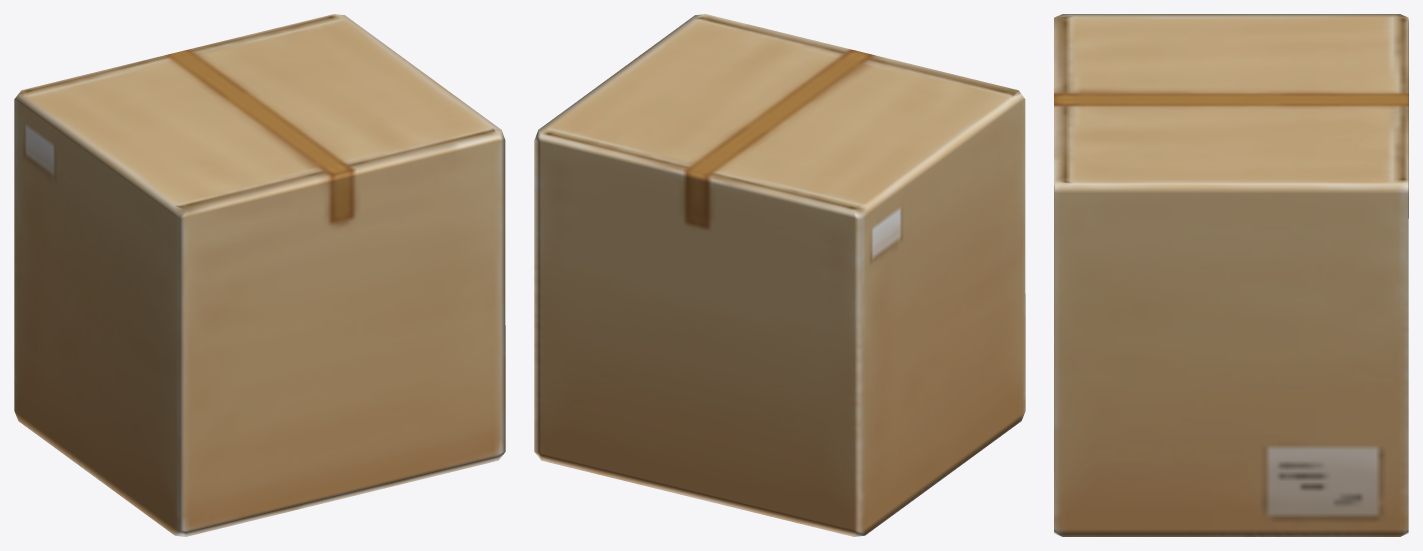
3 renders of one model, left to right at view 1: azimuth 30°, elevation 25°; view 2: azimuth 150°, elevation 25°; view 3: azimuth 270°, elevation 25°, orthographic. The views are drawn at different scales.
Visible parts, largest first — view 1: Box01; view 2: Box01; view 3: Box01.
Part boxes in pixels (box(x1,y1,x2,y2)): Box01: box(14, 14, 505, 536); Box01: box(534, 14, 1025, 536); Box01: box(1054, 14, 1408, 536).
Size of the model in its own units: 25.83 by 24.64 by 22.56.
Materials: 1 (1 with a texture image).
